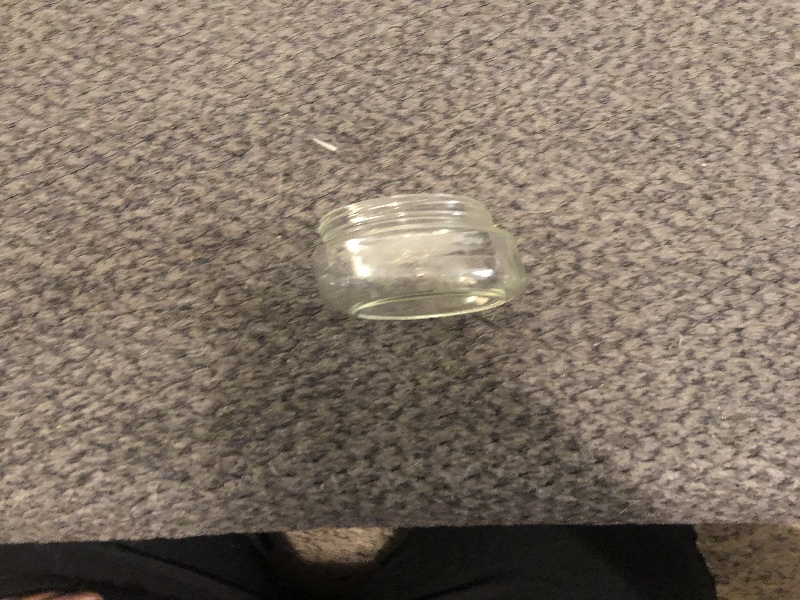glass: (310, 188, 524, 326)
